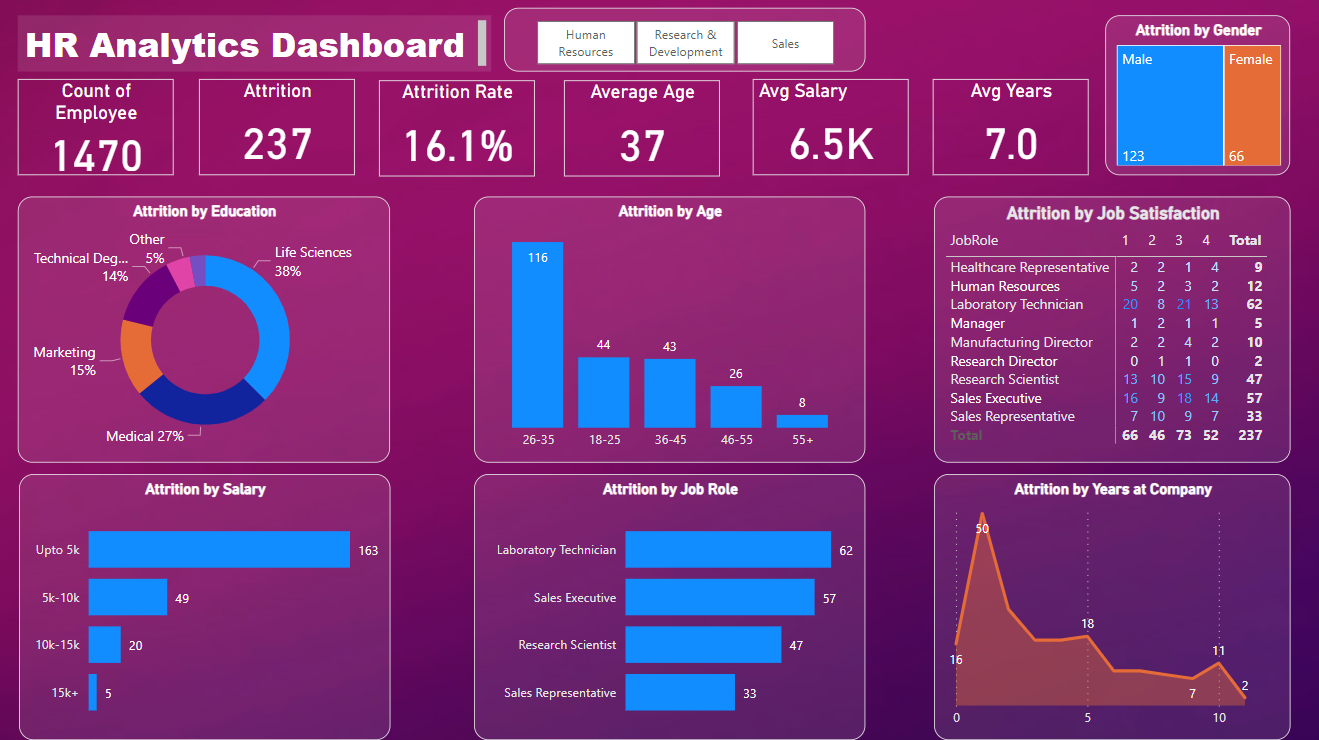

This screenshot's page, from the dashboard's own definition file:
{"tool":"powerbi","page":{"name":"Page 1","canvas":[1280,720],"ordinal":0},"visuals":[{"type":"card","title":"Count of Employee","fields":{"Values":["Count(HR_Analytics.EmpID)"]},"box":[18.6,81.4,150,92.9],"z":0},{"type":"card","title":"Attrition","fields":{"Values":["Sum(HR_Analytics.AttritionCount)"]},"box":[192.9,81.4,150,92.9],"z":1000},{"type":"card","title":"Average Age","fields":{"Values":["Avg(HR_Analytics.Age)"]},"box":[545.7,82.9,150,92.9],"z":2000},{"type":"card","title":"Attrition Rate","fields":{"Values":["HR_Analytics.AttritionRate"]},"box":[367.1,82.9,150,92.9],"z":3000},{"type":"card","title":"Avg Salary","fields":{"Values":["Avg(HR_Analytics.MonthlyIncome)"]},"box":[727.1,81.4,150,92.9],"z":4000},{"type":"card","title":"Avg Years","fields":{"Values":["Avg(HR_Analytics.YearsAtCompany)"]},"box":[901.4,81.4,150,92.9],"z":5000},{"type":"donutChart","title":"Attrition by Education","fields":{"Category":["HR_Analytics.EducationField"],"Y":["Sum(HR_Analytics.AttritionCount)"]},"box":[18.1,195.4,359.4,256.9],"z":6000},{"type":"columnChart","title":"Attrition by Age","fields":{"Category":["HR_Analytics.AgeGroup"],"Y":["Sum(HR_Analytics.AttritionCount)"]},"box":[458.3,195.4,377.5,256.9],"z":7000},{"type":"pivotTable","title":"Attrition by Job Satisfaction","fields":{"Rows":["HR_Analytics.JobRole"],"Columns":["HR_Analytics.JobSatisfaction"],"Values":["Sum(HR_Analytics.AttritionCount)"]},"box":[902,195.7,344.3,257.1],"z":8000},{"type":"clusteredBarChart","title":"Attrition by Salary","fields":{"Category":["HR_Analytics.SalarySlab"],"Y":["Sum(HR_Analytics.AttritionCount)"]},"box":[19.3,463.1,358.2,256.9],"z":9000},{"type":"clusteredBarChart","title":"Attrition by Job Role","fields":{"Category":["HR_Analytics.JobRole"],"Y":["Sum(HR_Analytics.AttritionCount)"]},"box":[458.3,463.1,377.5,256.9],"z":10000},{"type":"areaChart","title":"Attrition by Years at Company","fields":{"Category":["HR_Analytics.YearsAtCompany"],"Y":["Sum(HR_Analytics.AttritionCount)"]},"box":[902,462.9,344.3,257.1],"z":11000},{"type":"treemap","title":"Attrition by Gender","fields":{"Group":["HR_Analytics.Gender"],"Values":["Sum(HR_Analytics.AttritionCount)"]},"box":[1067.7,20,178.6,154.3],"z":12000},{"type":"slicer","fields":{"Values":["HR_Analytics.Department"]},"box":[487.7,12.9,348.6,61.4],"z":13000},{"type":"textbox","box":[18.6,20,457.1,54.3],"z":14000}]}

Visuals, with their boxes in screenshot pixels (x1, y1, x2, y2), scaled from the page's 1280x720 canvas onto the 1319x740 screenshot:
"Count of Employee" card: (x1=19, y1=84, x2=174, y2=179)
"Attrition" card: (x1=199, y1=84, x2=353, y2=179)
"Average Age" card: (x1=562, y1=85, x2=717, y2=181)
"Attrition Rate" card: (x1=378, y1=85, x2=533, y2=181)
"Avg Salary" card: (x1=749, y1=84, x2=904, y2=179)
"Avg Years" card: (x1=929, y1=84, x2=1083, y2=179)
"Attrition by Education" donutChart: (x1=19, y1=201, x2=389, y2=465)
"Attrition by Age" columnChart: (x1=472, y1=201, x2=861, y2=465)
"Attrition by Job Satisfaction" pivotTable: (x1=929, y1=201, x2=1284, y2=465)
"Attrition by Salary" clusteredBarChart: (x1=20, y1=476, x2=389, y2=739)
"Attrition by Job Role" clusteredBarChart: (x1=472, y1=476, x2=861, y2=739)
"Attrition by Years at Company" areaChart: (x1=929, y1=476, x2=1284, y2=739)
"Attrition by Gender" treemap: (x1=1100, y1=21, x2=1284, y2=179)
slicer - HR_Analytics.Department: (x1=503, y1=13, x2=862, y2=76)
textbox: (x1=19, y1=21, x2=490, y2=76)
